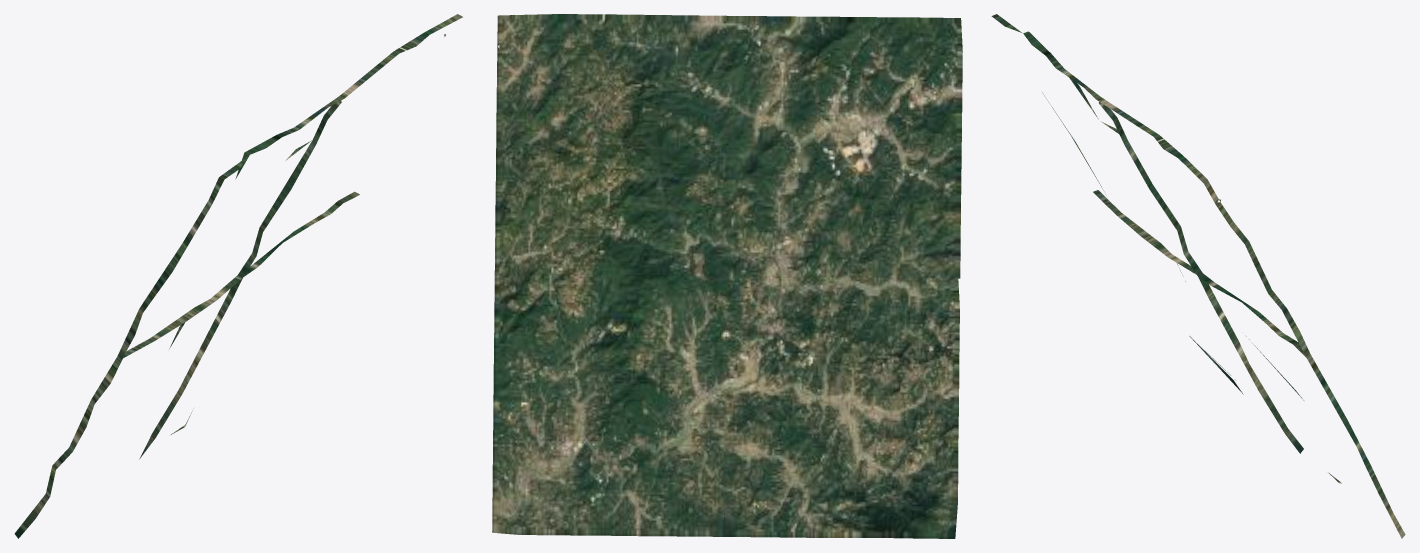
The picture shows the model from 3 angles, left to right: view 1: azimuth 30°, elevation 25°; view 2: azimuth 150°, elevation 25°; view 3: azimuth 270°, elevation 25°; orthographic projection. The views are drawn at different scales.
Bounding box in the file's own units: 39899 × 35501 × 32699.
1 material, 1 textured.
